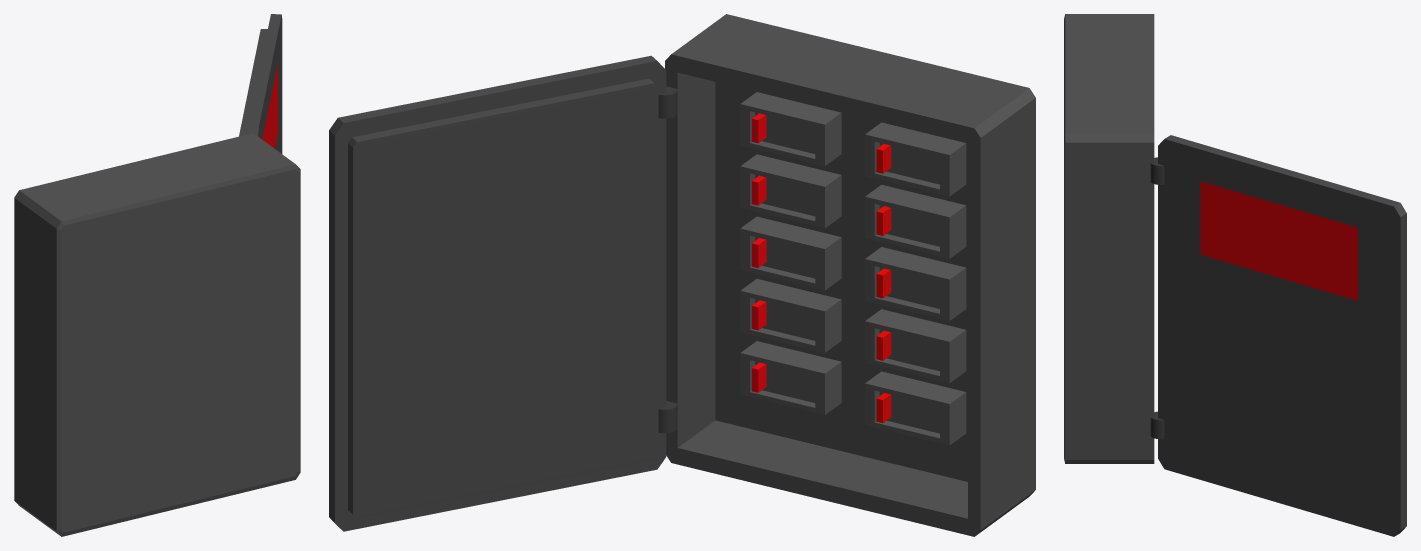
File: breaker box.fbx
The picture shows the model from 3 angles, left to right: view 1: azimuth 30°, elevation 25°; view 2: azimuth 150°, elevation 25°; view 3: azimuth 270°, elevation 25°; orthographic projection. The views are drawn at different scales.
Parts seen in each view (by area): view 1: Cube, Cube.005; view 2: Cube.005, Cube, Cube.001, Cube.004, Cube.003, Cube.002; view 3: Cube.005, Cube.
Boxes of the visible parts, bbox=[...] form: Cube: bbox=[14, 133, 300, 536]; Cube.005: bbox=[239, 14, 282, 153]; Cube.005: bbox=[329, 55, 666, 531]; Cube: bbox=[665, 14, 1035, 536]; Cube.001: bbox=[740, 92, 841, 414]; Cube.004: bbox=[865, 122, 966, 445]; Cube.003: bbox=[876, 144, 891, 422]; Cube.002: bbox=[752, 113, 766, 392]; Cube.005: bbox=[1158, 135, 1406, 536]; Cube: bbox=[1064, 14, 1154, 463].
Size of the model in its own units: 256 by 200 by 188.
